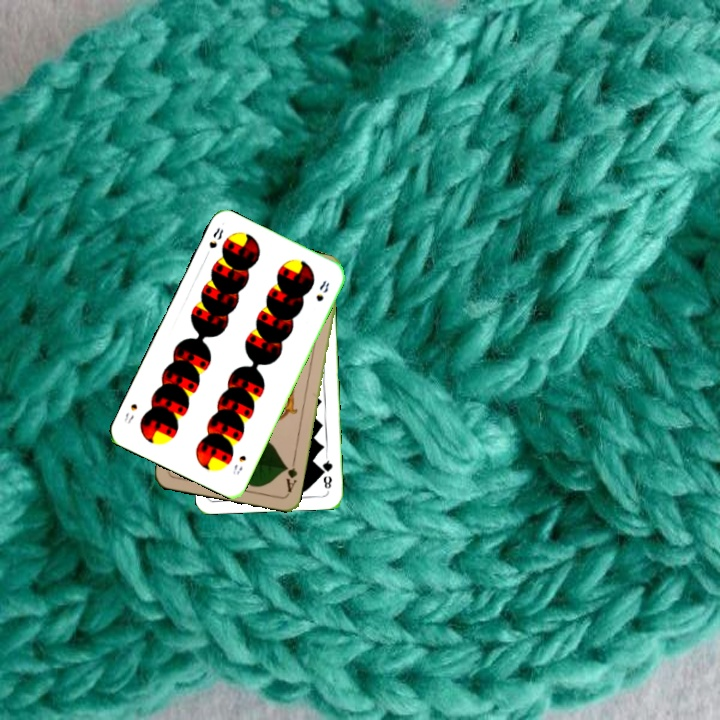G8: (318, 453, 335, 491)
GA: (281, 455, 300, 495)
S8: (205, 224, 226, 251), (228, 451, 249, 477)
